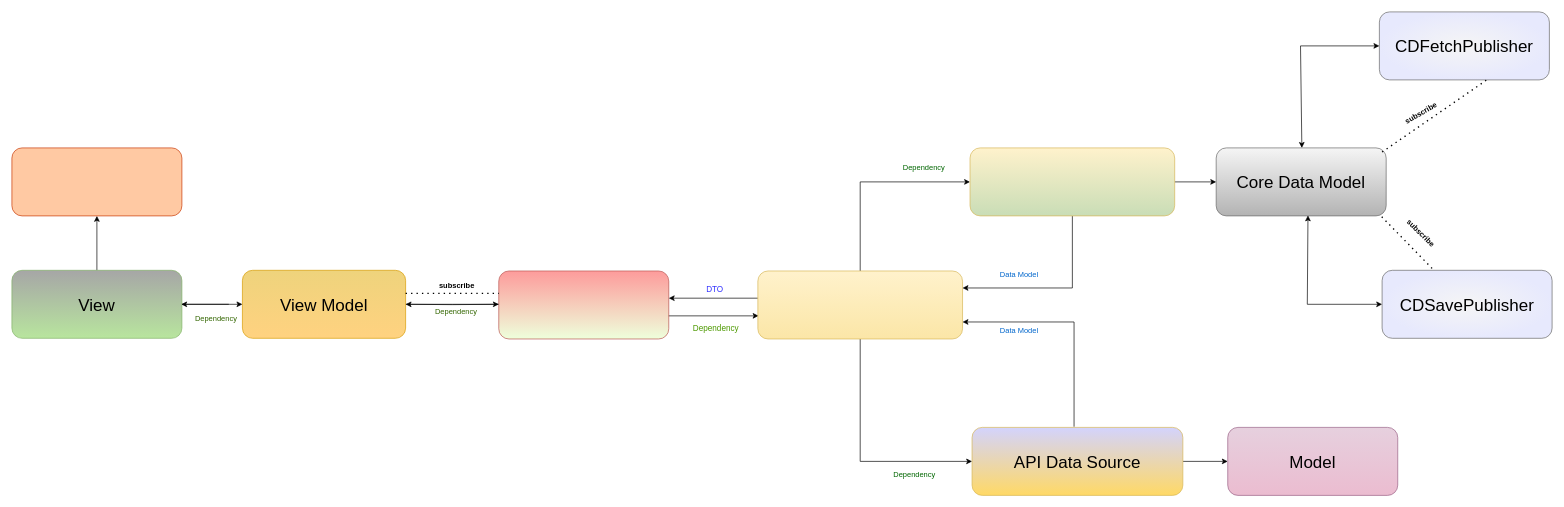
Image size: 1564x507. Some labels were removed from this diagram. Each missing label, with the box of its shape:
Local Data Source: (969, 147, 1175, 216)
Repository: (757, 270, 963, 339)
Router: (11, 147, 182, 216)
Use Case: (498, 270, 669, 339)
